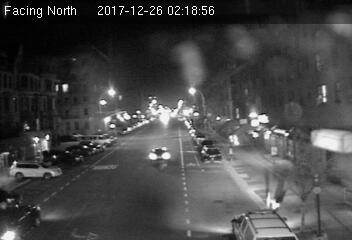car: (199, 145, 223, 162), (147, 146, 172, 162)
truck: (228, 205, 300, 240)
